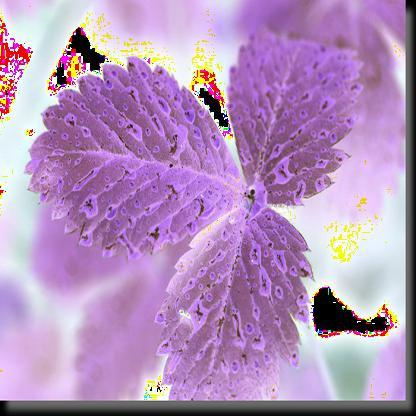Strawberry leaf: (19, 49, 247, 260), (154, 198, 317, 400), (226, 10, 369, 214)
